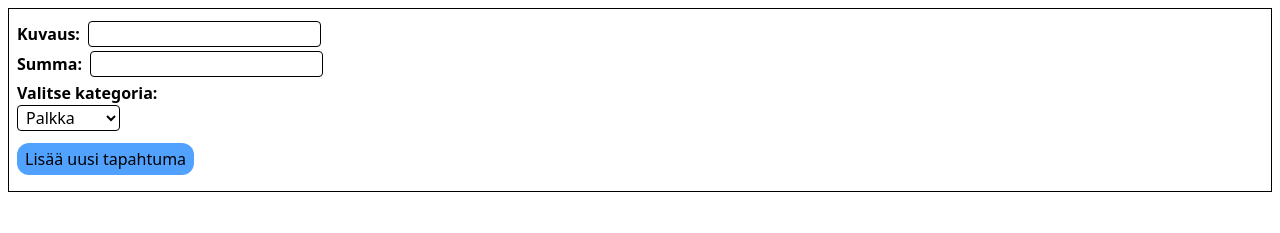
AddNewTransaction tests › Display error when network request fails
Type "Testi1" into the field labelled "Kuvaus:". click: (204, 34)
box: [88,21,321,47]
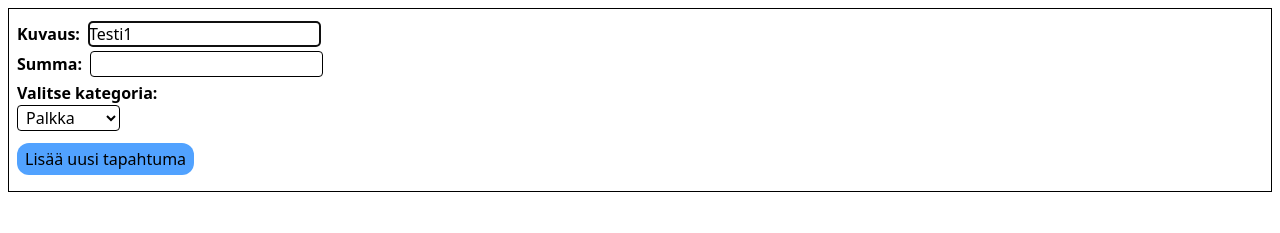
Type "-420" into the field labelled "Summa:". click: (206, 64)
box: [90,51,323,77]
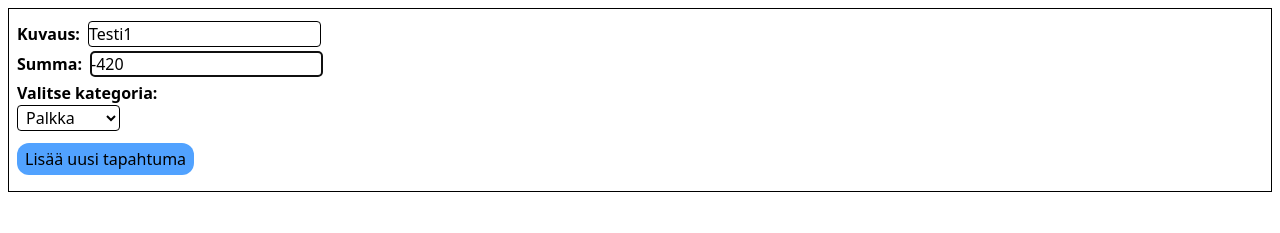
Select "Laskut" in the dropdown. click: (68, 118)
box: [17,105,120,131]
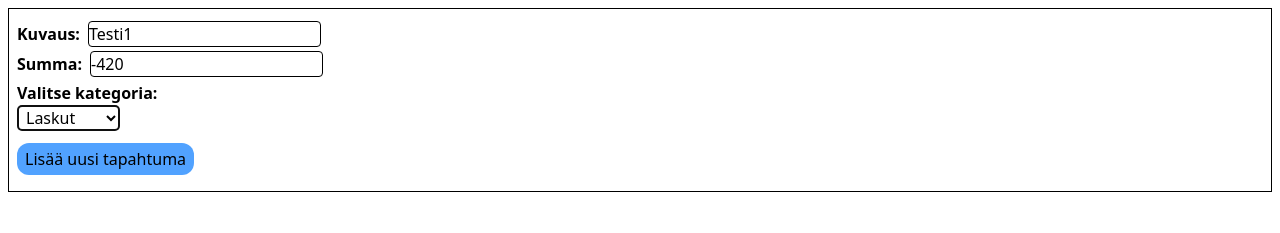
Click the button. click: (106, 159)
box: [17,143,194,175]
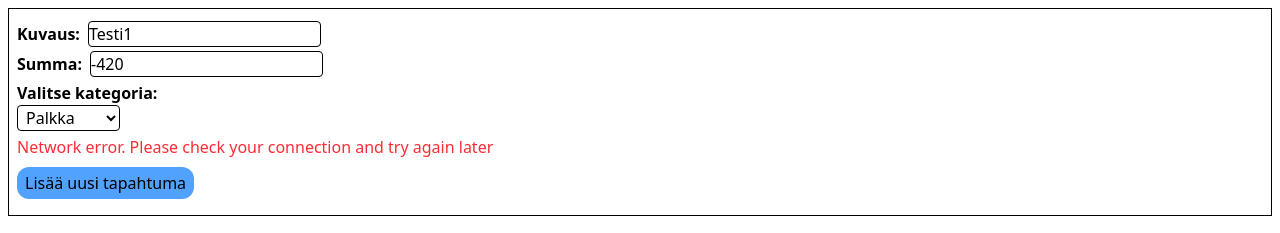
Expected: the number of list items is 1, [17,136,493,158]
